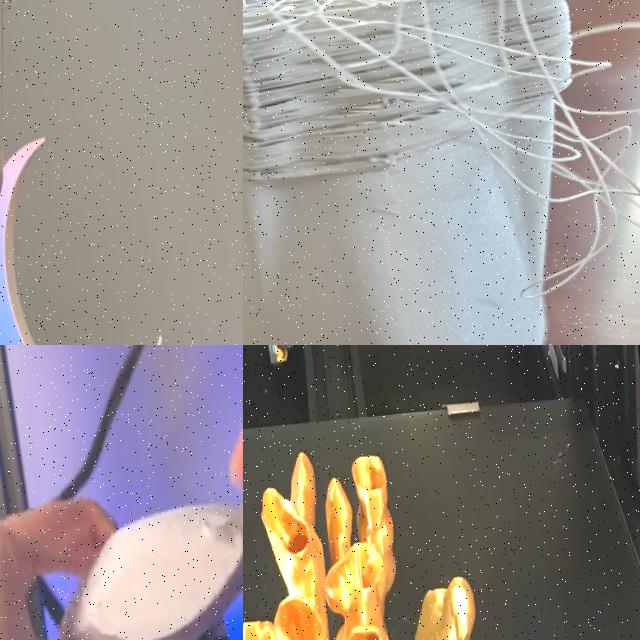spaghetti: (243, 0, 611, 271)
